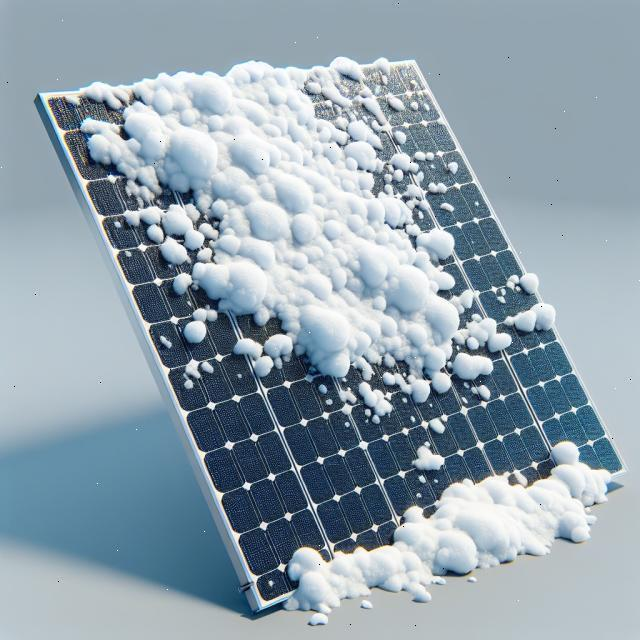Anomaly Solar Panel: (41, 56, 627, 607)
Snow: (61, 0, 529, 497), (274, 434, 614, 588), (481, 260, 562, 350), (403, 413, 455, 478)
